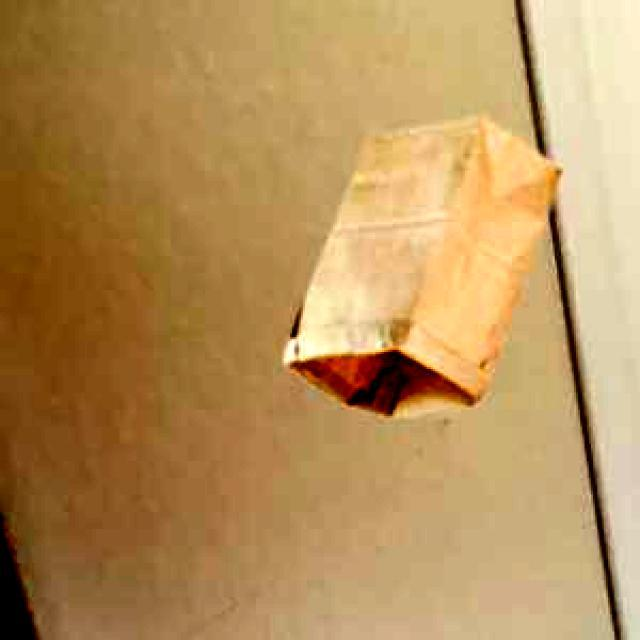Paper_Bag: (280, 114, 558, 413)
